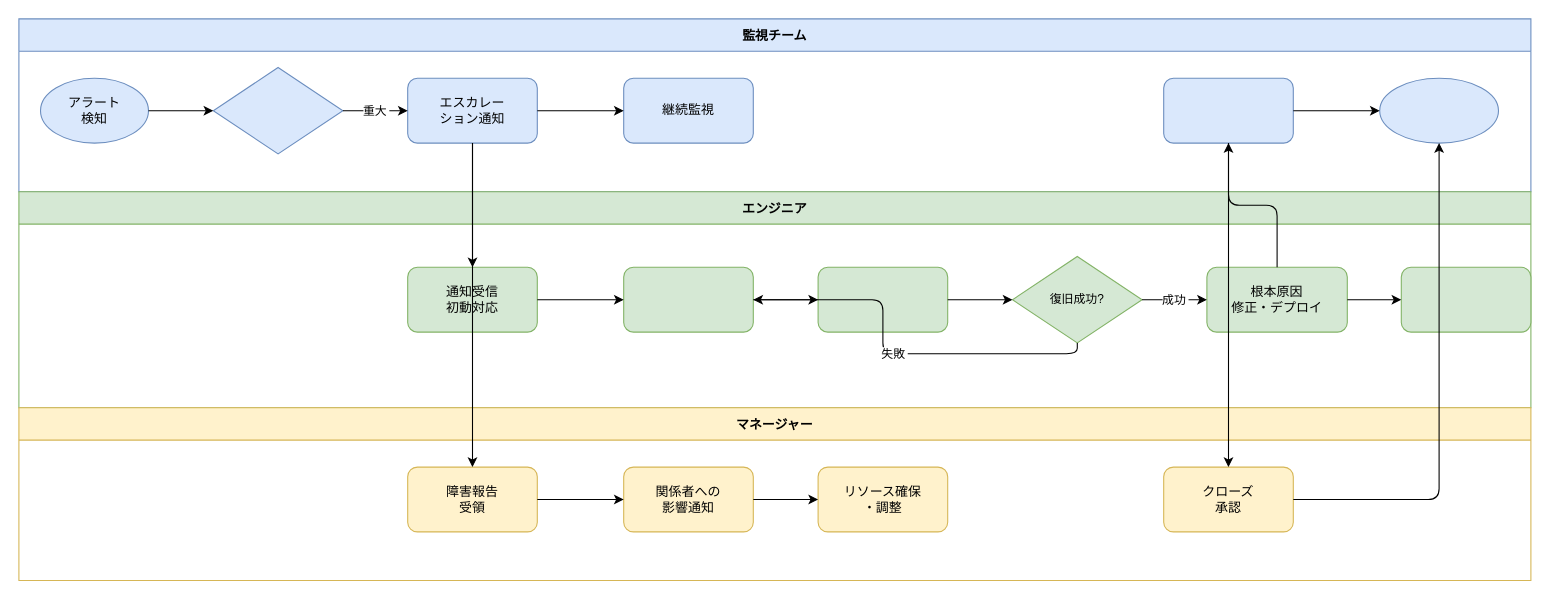
This 1550x599 diagram has some shape labels left out. Each missing label, with the box of its shape:
インシデント クローズ: (1379, 77, 1498, 143)
事後レポート 作成: (1400, 266, 1531, 332)
原因調査: (623, 266, 753, 332)
復旧確認: (1163, 77, 1293, 143)
暫定対応 実施: (817, 266, 948, 332)
重大障害 判定: (212, 66, 343, 154)
